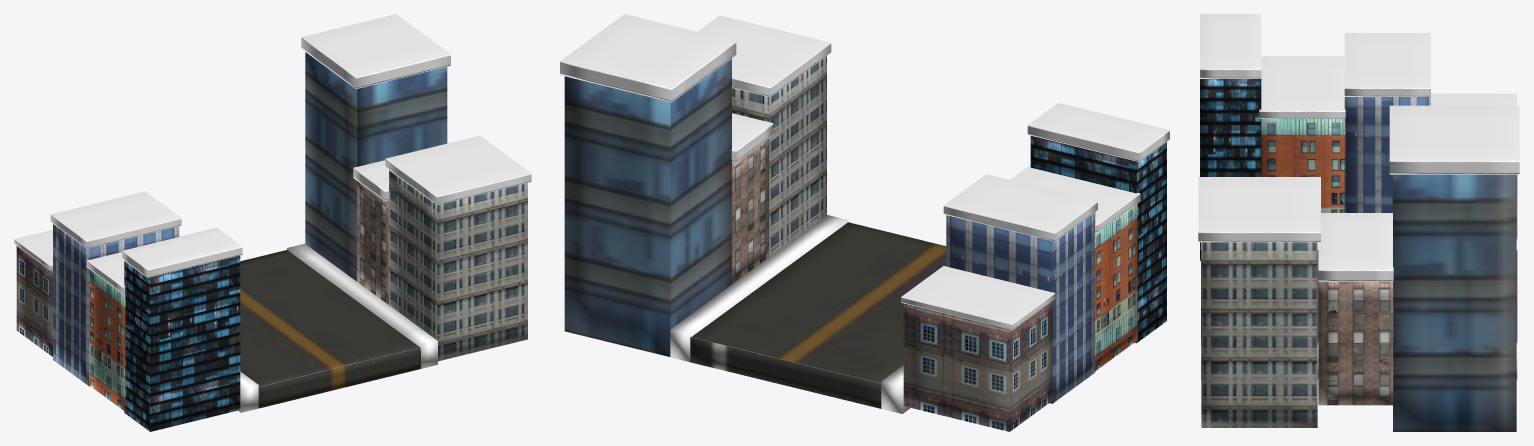
3 views of the same model, side by side, from view 1: azimuth 30°, elevation 25°; view 2: azimuth 150°, elevation 25°; view 3: azimuth 270°, elevation 25° (orthographic). The views are drawn at different scales.
Visible parts, largest first — view 1: Bui3, Road, Box_3, Bui7, Box_7, Bui1, Box_5, Bui5, Bui6, Bui2, Bui4, Cross_road2 (+1 smaller); view 2: Box_3, Road, Box_7, Bui4, Bui5, Bui3, Bui1, Bui7, Bui6, Box_5, Bui2, Cross_road2 (+1 smaller); view 3: Box_3, Bui3, Box_7, Bui2, Bui1, Box_5, Bui7, Bui6, Bui5, Road.
Part boxes in pixels (x1,y1,x2,y2): Bui3: (389, 170, 527, 361); Road: (240, 250, 420, 408); Box_3: (305, 52, 447, 281); Bui7: (124, 255, 240, 431); Box_7: (14, 191, 242, 293); Bui1: (301, 14, 450, 88); Box_5: (385, 135, 531, 204); Bui5: (53, 224, 179, 386); Bui6: (89, 269, 125, 411); Bui2: (357, 181, 388, 304); Bui4: (16, 246, 52, 356); Cross_road2: (287, 243, 437, 368); Box_3: (564, 58, 773, 356); Road: (690, 222, 946, 408); Box_7: (901, 103, 1169, 329); Bui4: (903, 301, 1052, 431); Bui5: (946, 212, 1095, 403); Bui3: (732, 56, 826, 256); Bui1: (560, 14, 736, 102); Bui7: (1030, 136, 1166, 343); Bui6: (1094, 203, 1137, 371); Box_5: (697, 15, 831, 97); Bui2: (732, 138, 768, 284); Cross_road2: (670, 215, 848, 362); Box_3: (1318, 174, 1516, 431); Bui3: (1201, 242, 1317, 427); Box_7: (1200, 14, 1517, 118); Bui2: (1318, 281, 1393, 405); Bui1: (1389, 105, 1519, 174); Box_5: (1198, 177, 1320, 242); Bui7: (1200, 79, 1261, 260); Bui6: (1261, 118, 1345, 212); Bui5: (1344, 97, 1430, 212); Road: (1201, 250, 1517, 340).
Size of the model in its own units: 4.27 by 2.44 by 2.61.
Materials: 17 (8 with a texture image).
